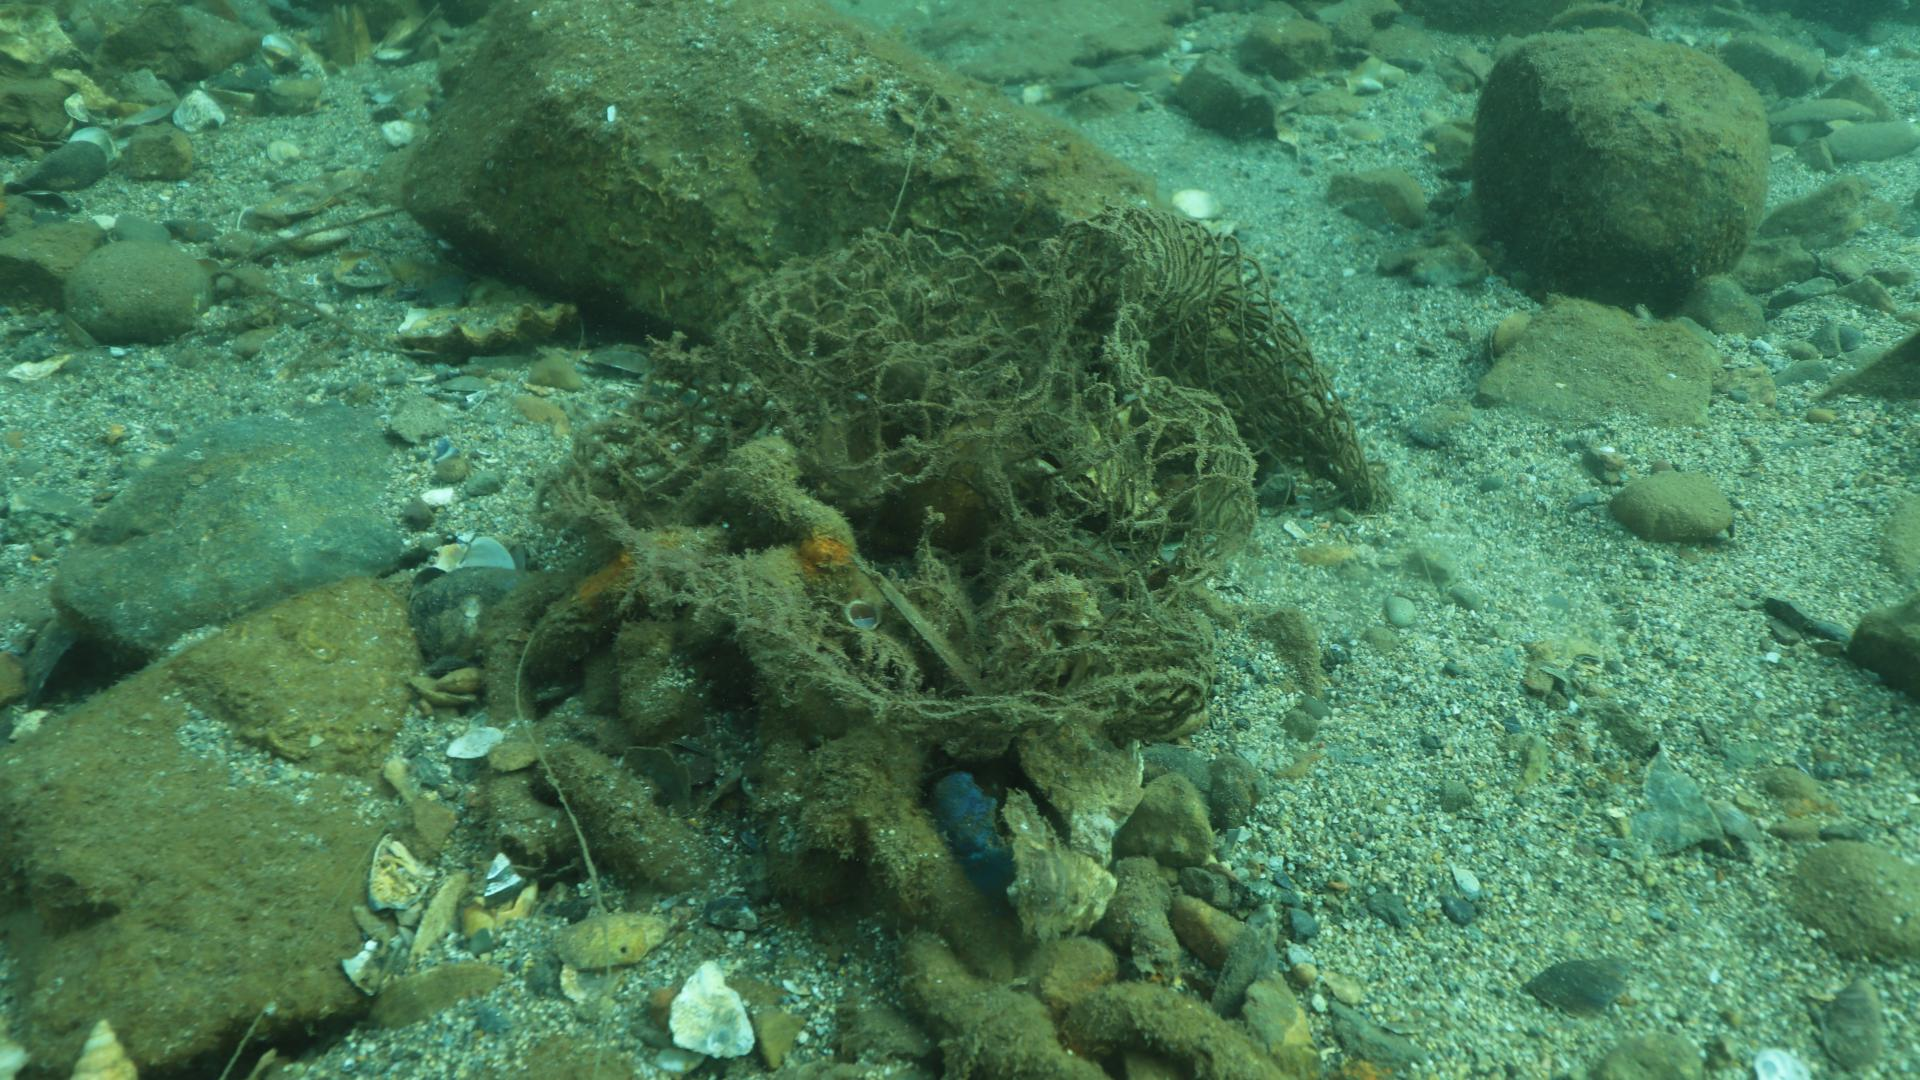fish net: (537, 202, 1396, 525)
